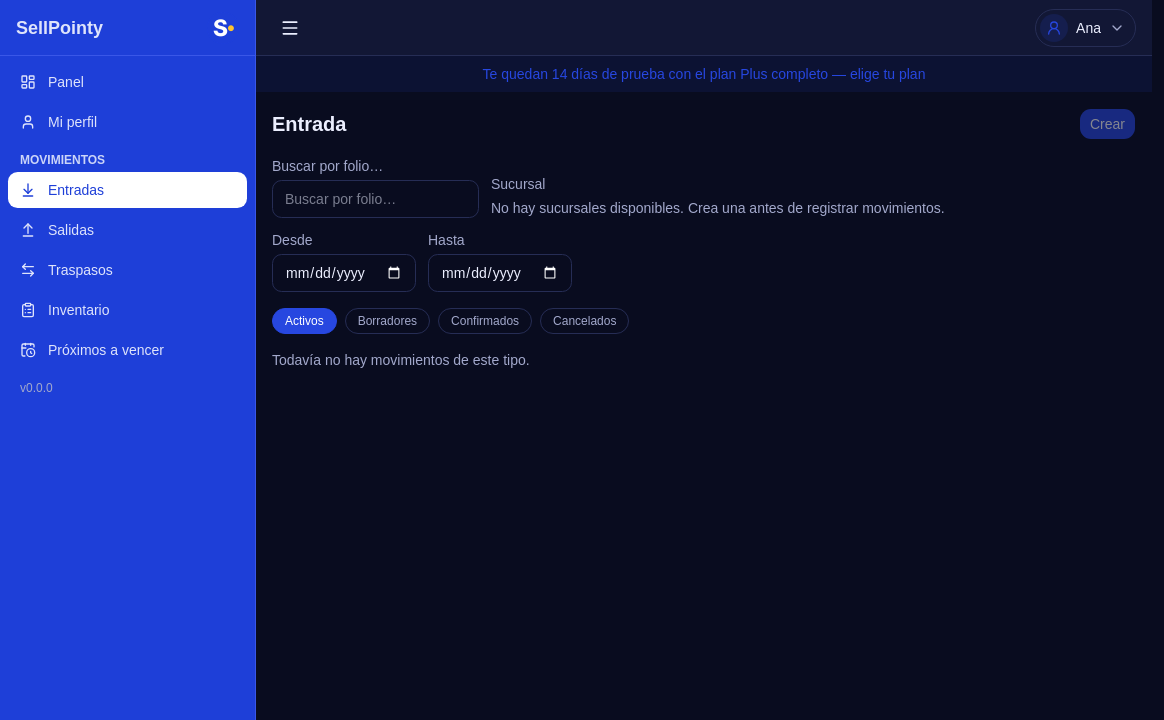
Scenario: Listado de documentos (F3-DOC-08) › estados vacíos › distingue «todavía no hay» de «no encontré nada»
The image size is (1164, 720).
Check: the text "Todavía no hay movimientos de este tipo." is shown, box [272, 352, 530, 368]
Step 1. Type "999" into the search field → (376, 199), box [272, 180, 479, 218]
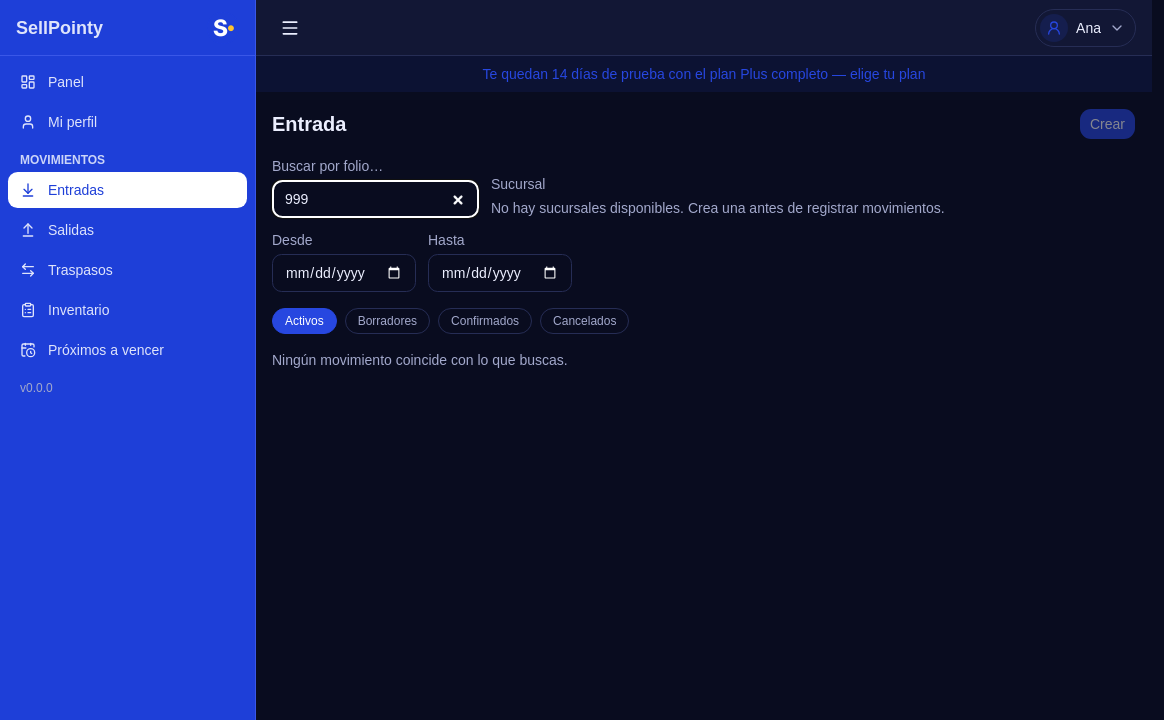
Check: the text "Ningún movimiento coincide con lo que buscas." is shown, box [272, 352, 568, 368]
